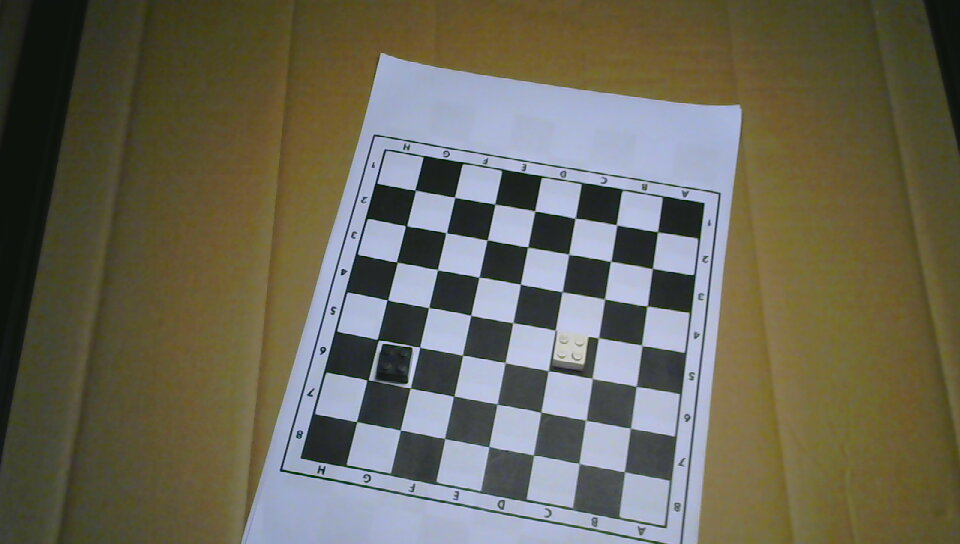bp: (377, 342, 414, 386)
wp: (552, 329, 590, 371)
